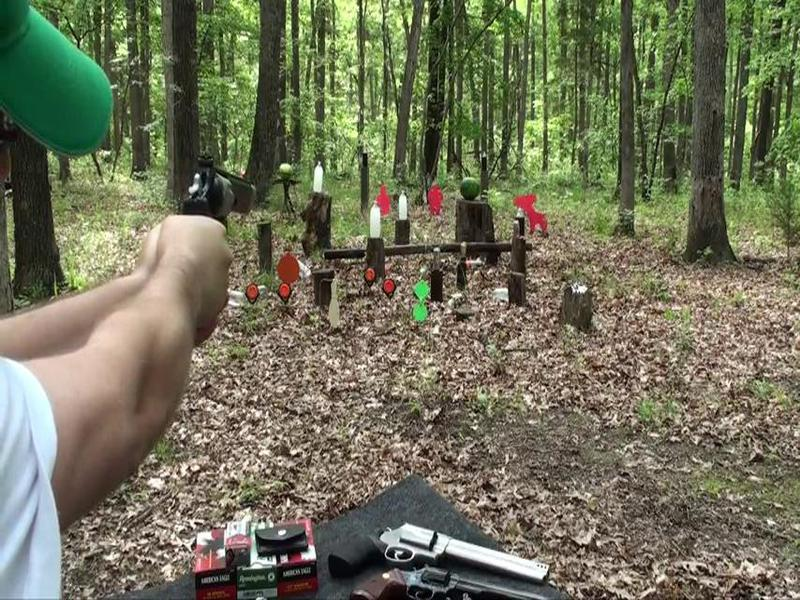Revolver: (168, 146, 265, 261)
